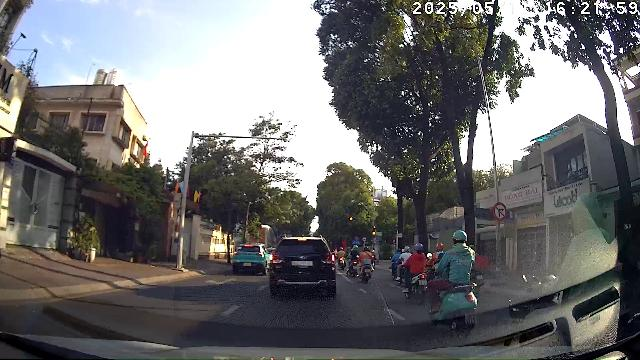123b-cam-re-phai: (493, 202, 507, 221)
